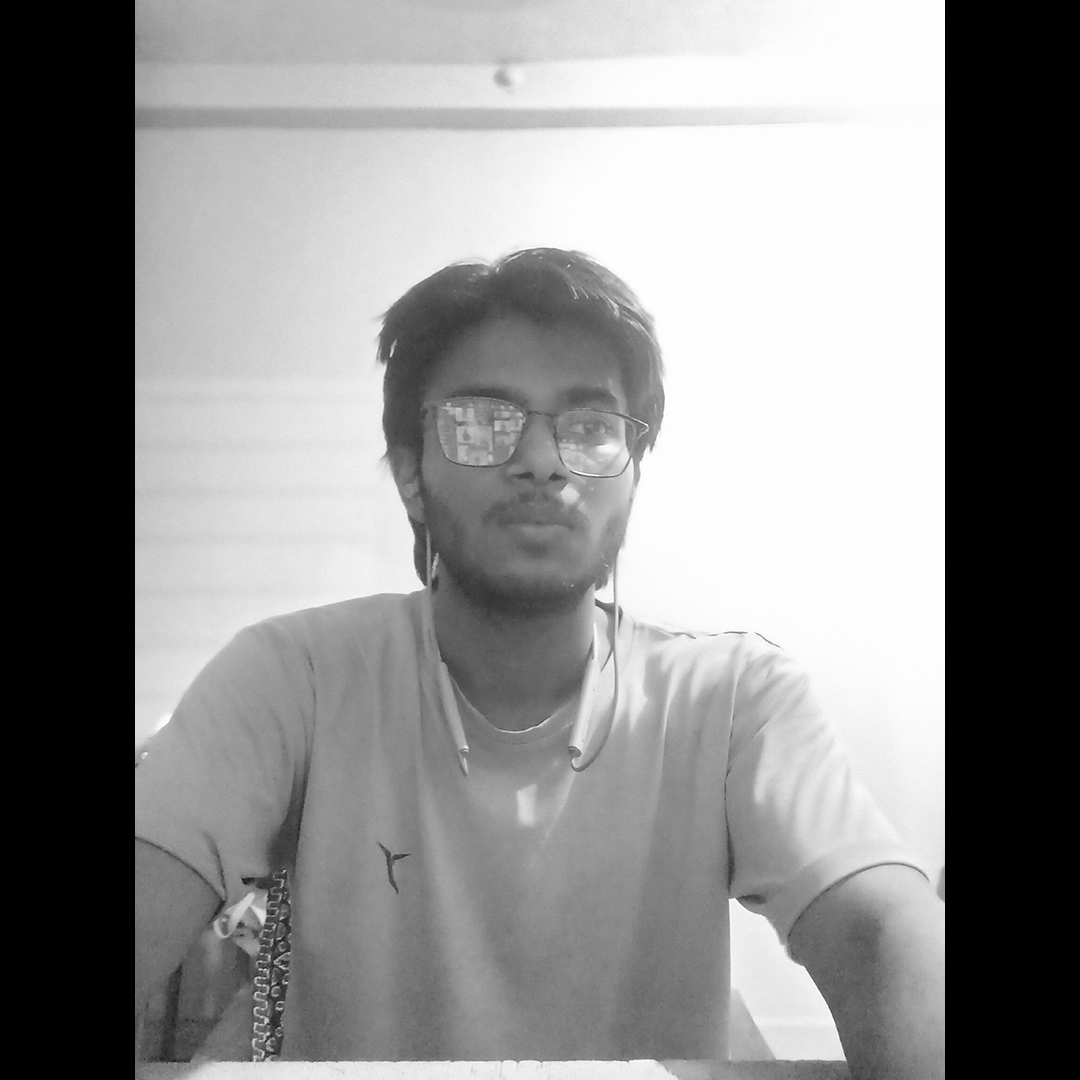Focused: (185, 151, 863, 971)
